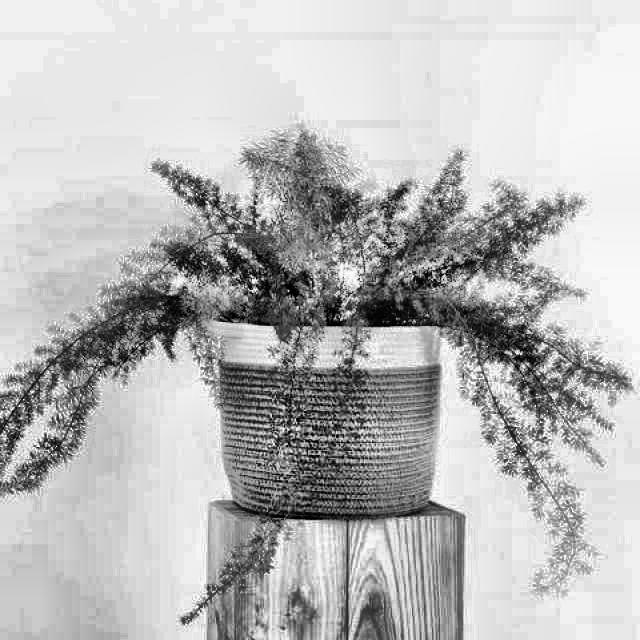plants: (1, 121, 622, 594)
